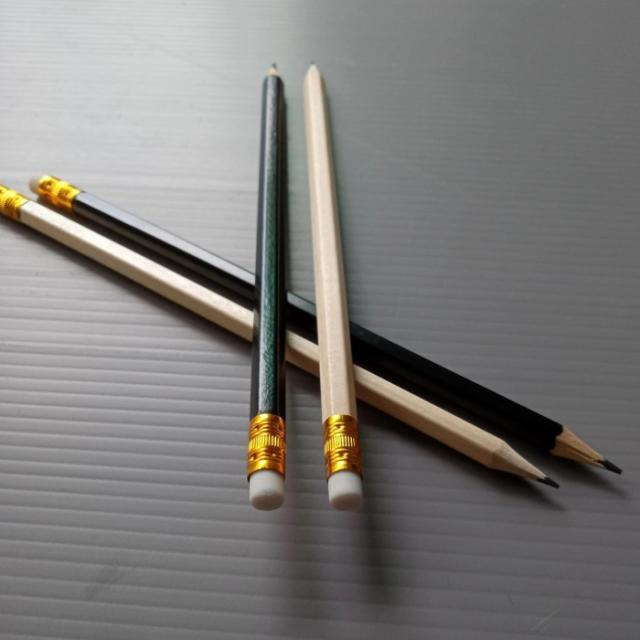pencil: (8, 157, 639, 494), (2, 178, 571, 504), (299, 49, 377, 525), (233, 52, 295, 535)
